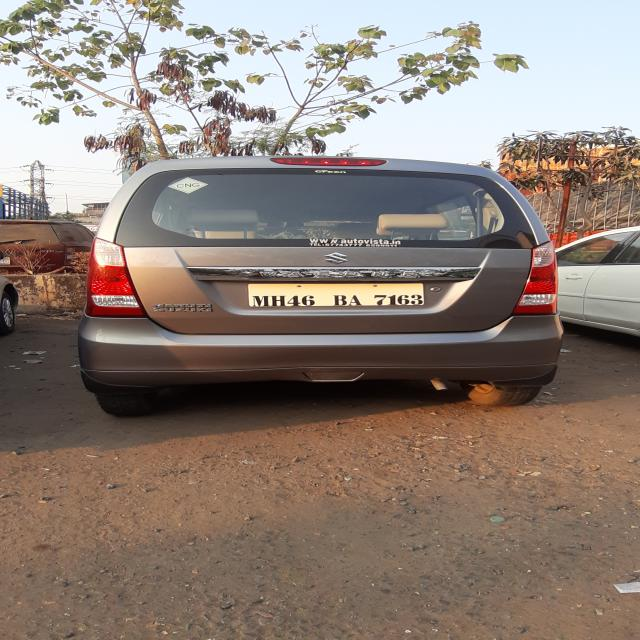Number-Plate: (249, 284, 426, 307)
